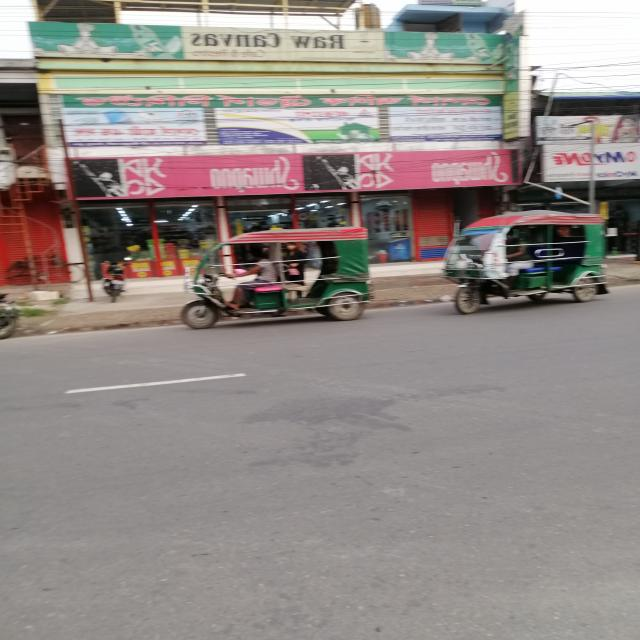Easybike: (170, 214, 395, 349), (441, 201, 634, 333)
Motorbike: (91, 266, 141, 314)
